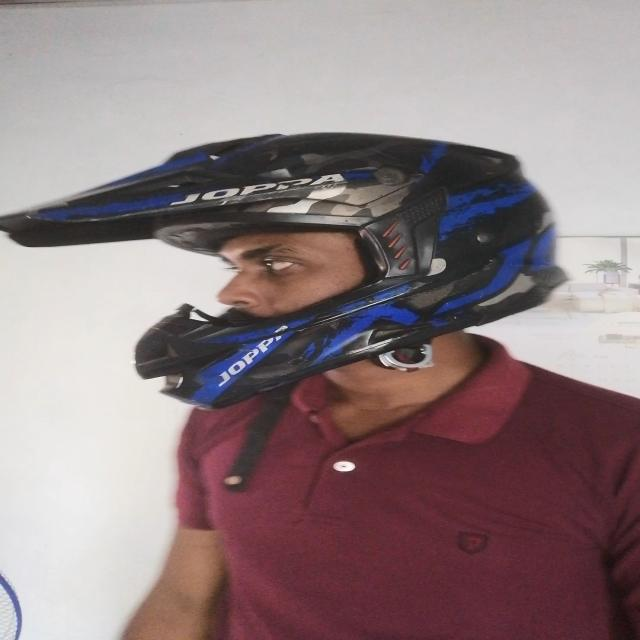Helmet_Wearer: (5, 122, 582, 428)
Person: (123, 114, 640, 640)
